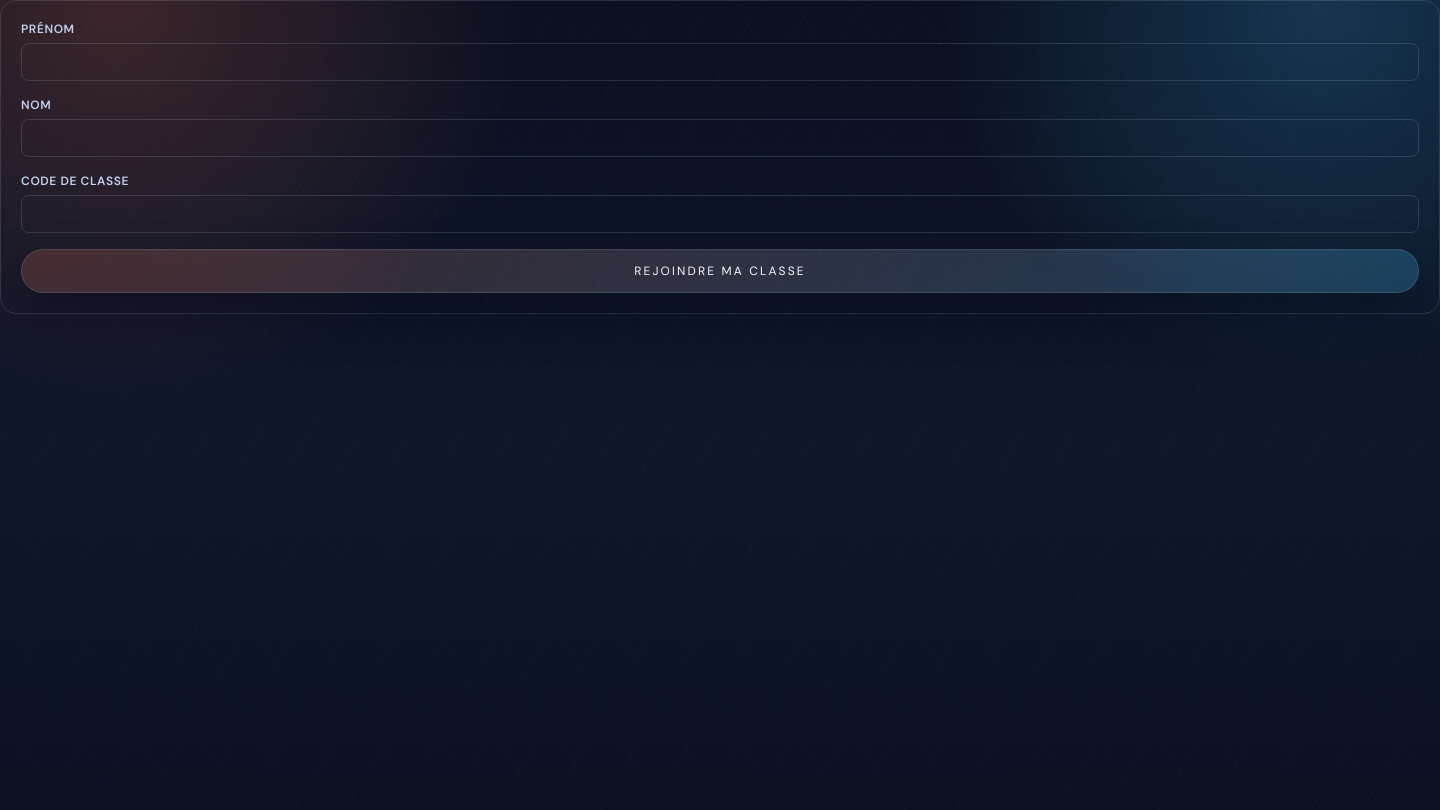
it: JoinClassForm › affiche une erreur si le code est trop court
The image size is (1440, 810).
Type "Léa" into the field labelled "Prénom" at (720, 62), box [21, 43, 1419, 81]
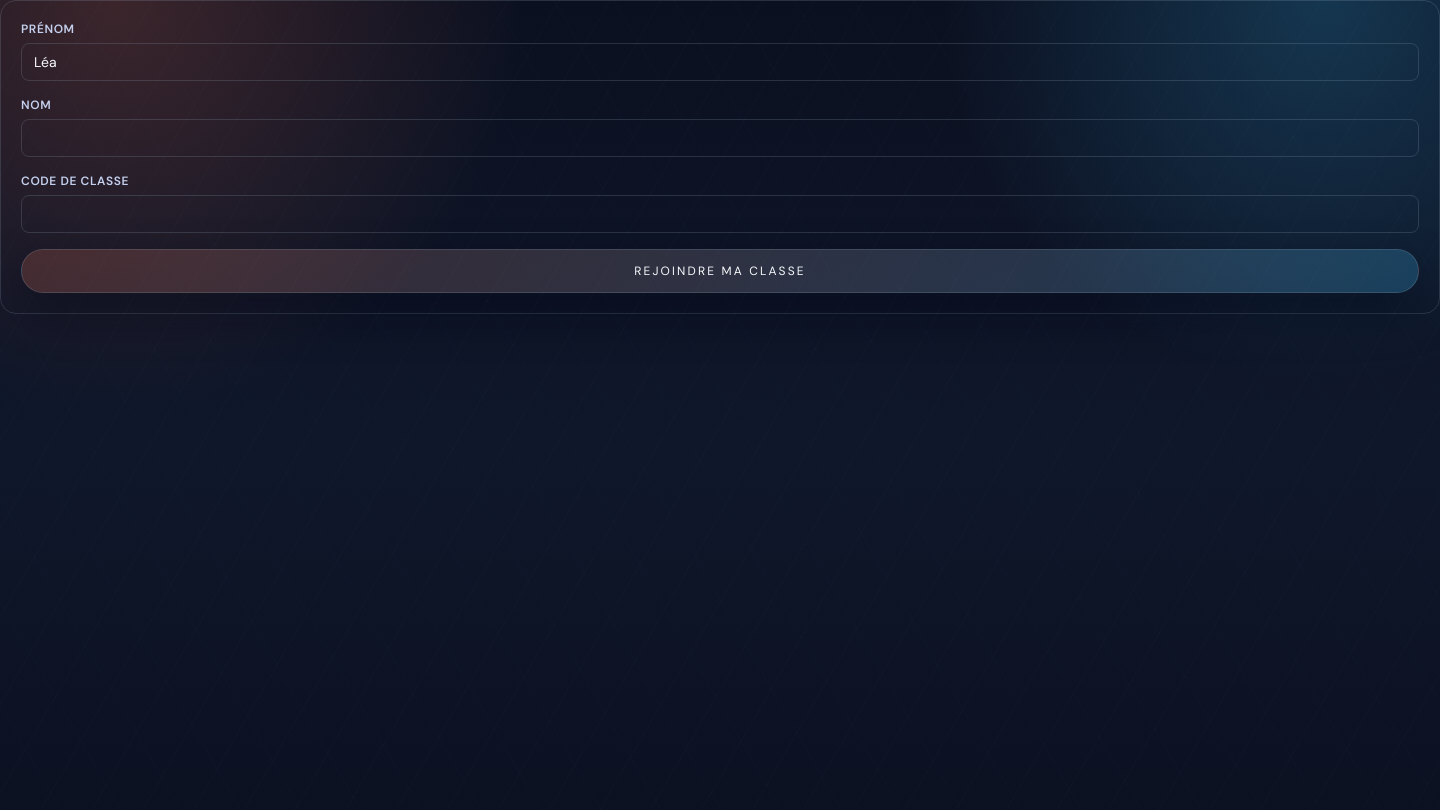
Type "Dupont" into the field labelled "Nom" at (720, 138), box [21, 119, 1419, 157]
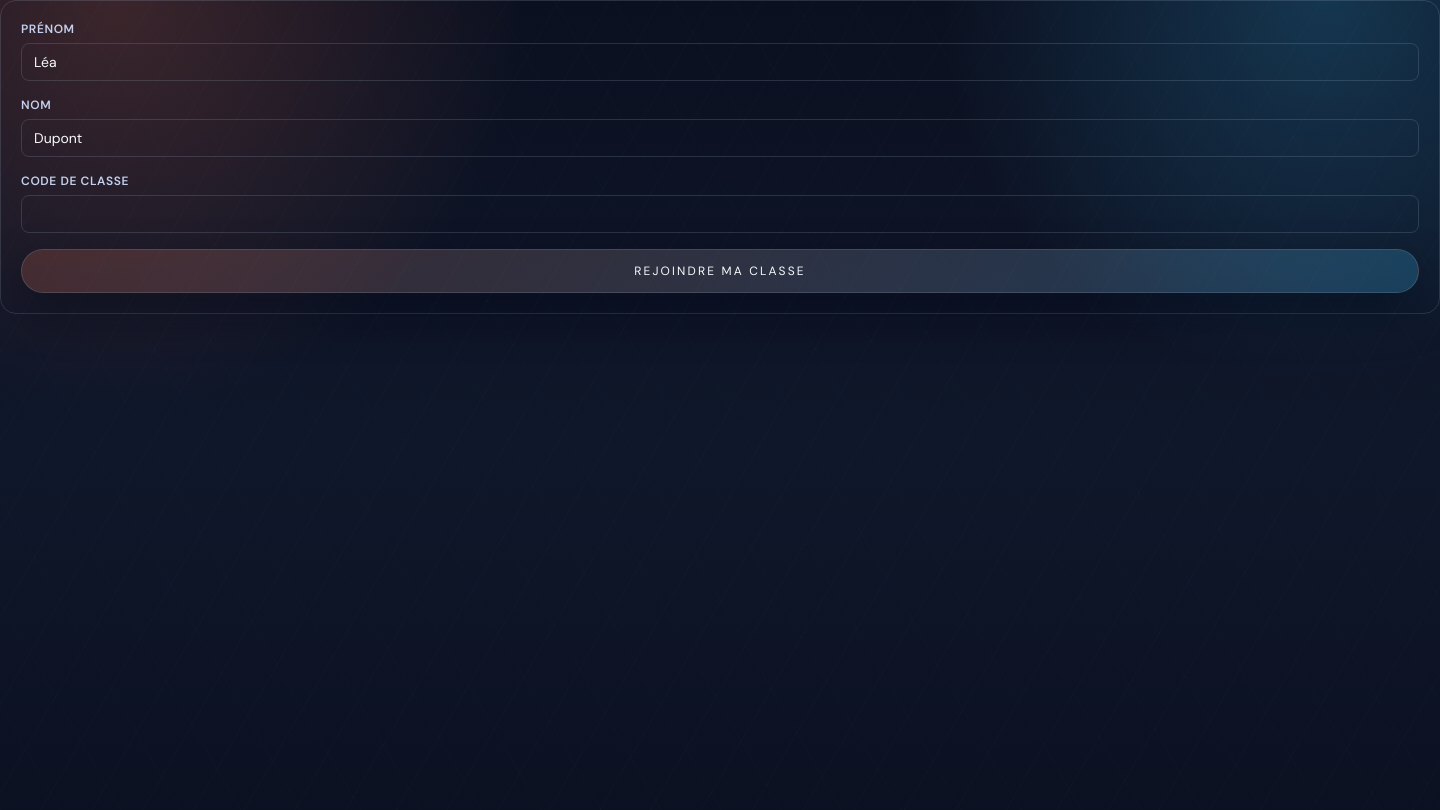
Type "AB" into the field labelled "Code de classe" at (720, 214), box [21, 195, 1419, 233]
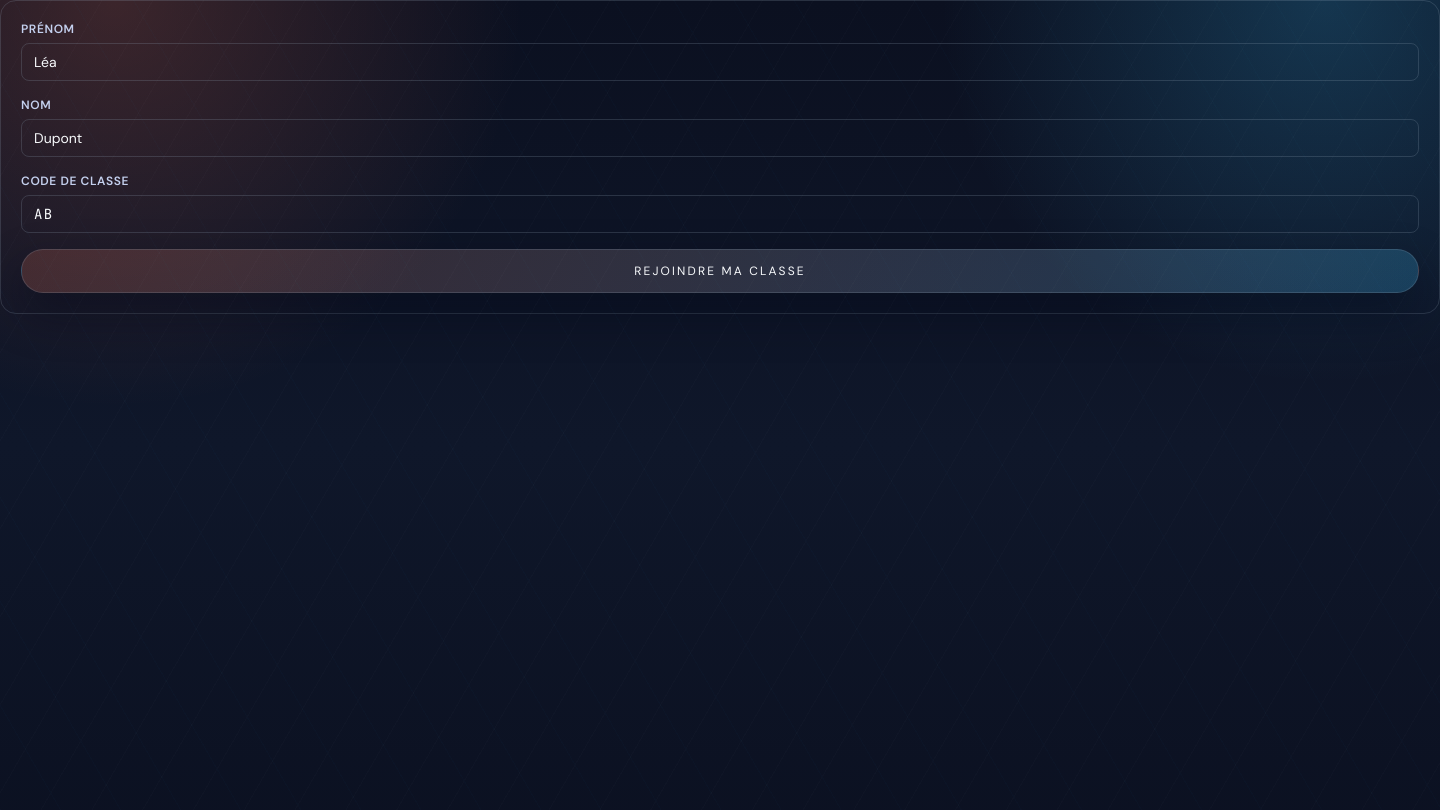
Click the button "Rejoindre ma classe" at (720, 271), box [21, 249, 1419, 293]
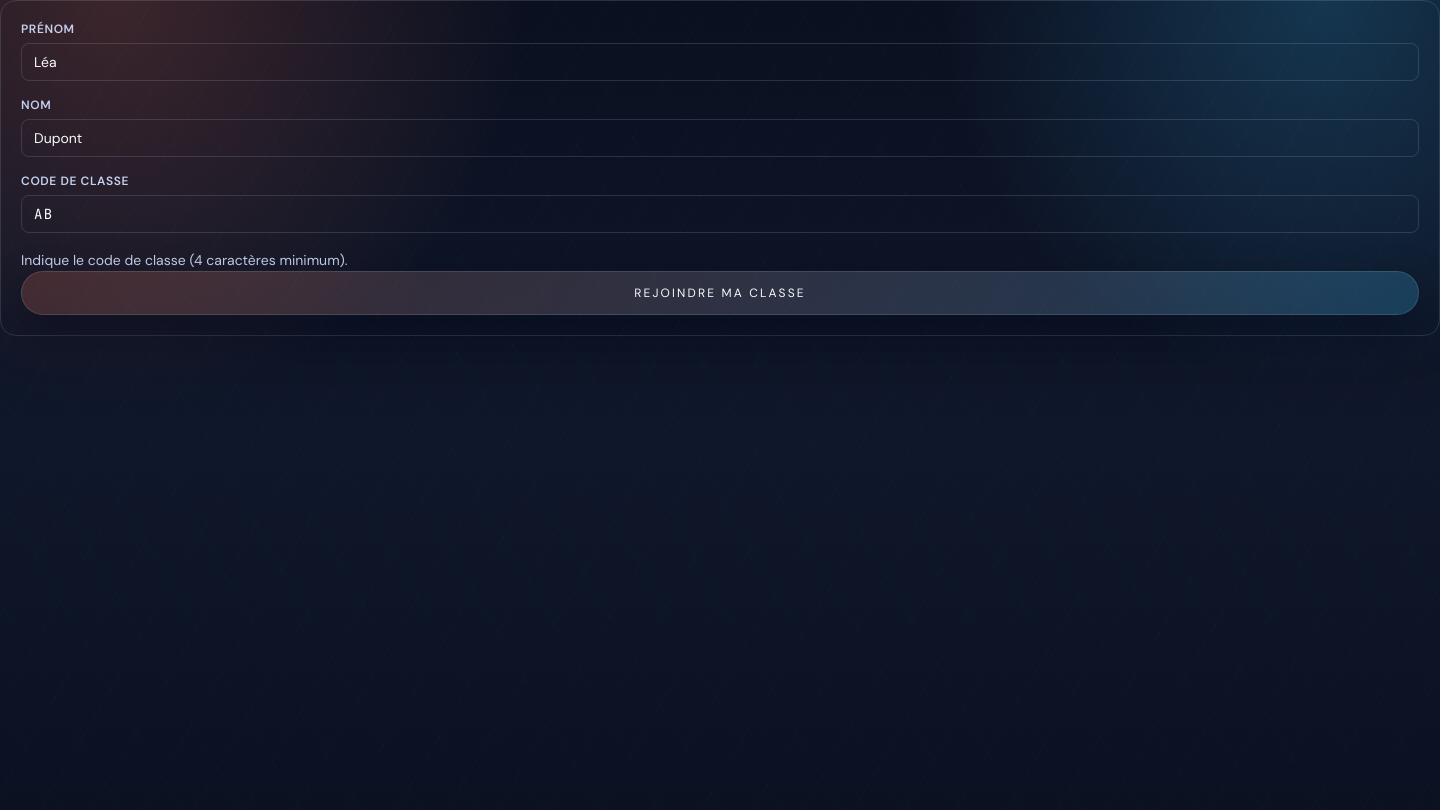
Now the message with test id "join-form-error" shows "code de classe", box [21, 251, 348, 269]
